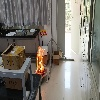fire: (36, 44, 45, 74)
